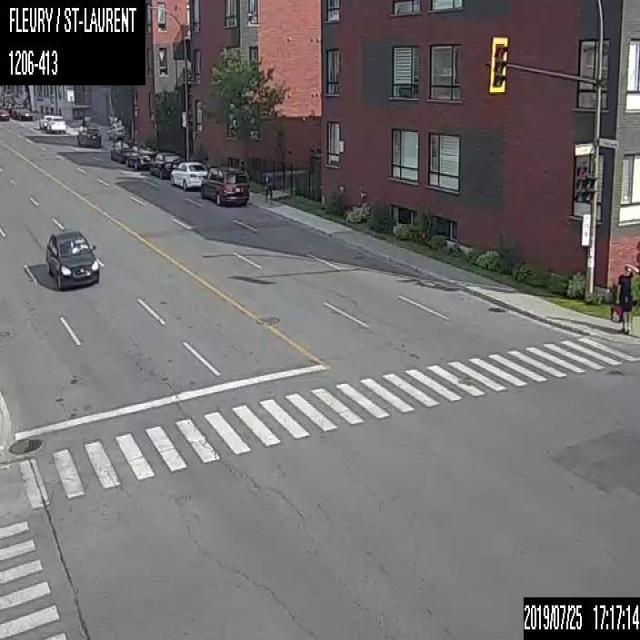pedestrian: (608, 262, 639, 334), (264, 171, 272, 204), (80, 116, 85, 128)
vehicle: (44, 228, 99, 288), (201, 166, 247, 206), (170, 161, 208, 189), (148, 150, 180, 178), (125, 146, 152, 169), (110, 139, 135, 161), (76, 125, 101, 147), (105, 120, 124, 139), (46, 114, 66, 130), (17, 107, 32, 120), (38, 114, 47, 128), (0, 108, 9, 120)
